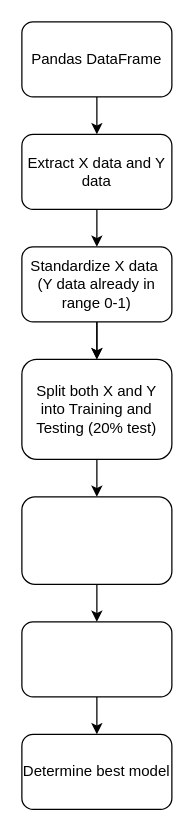
Image size: 194x831. Some labels were removed from this diagram. Here are the shapes that lost their labels. From the top down, the centre of each, then its label:
point 96,540: Tune Hyper parameters for 4 different models
point 96,659: Predict and Evaluate Models
